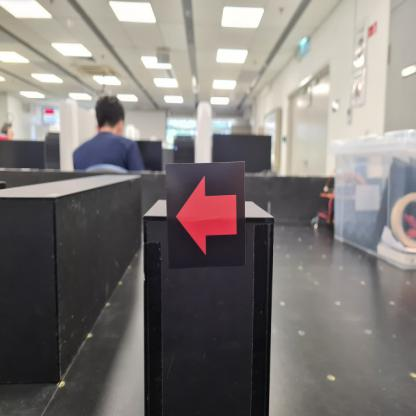left: (166, 161, 247, 267)
